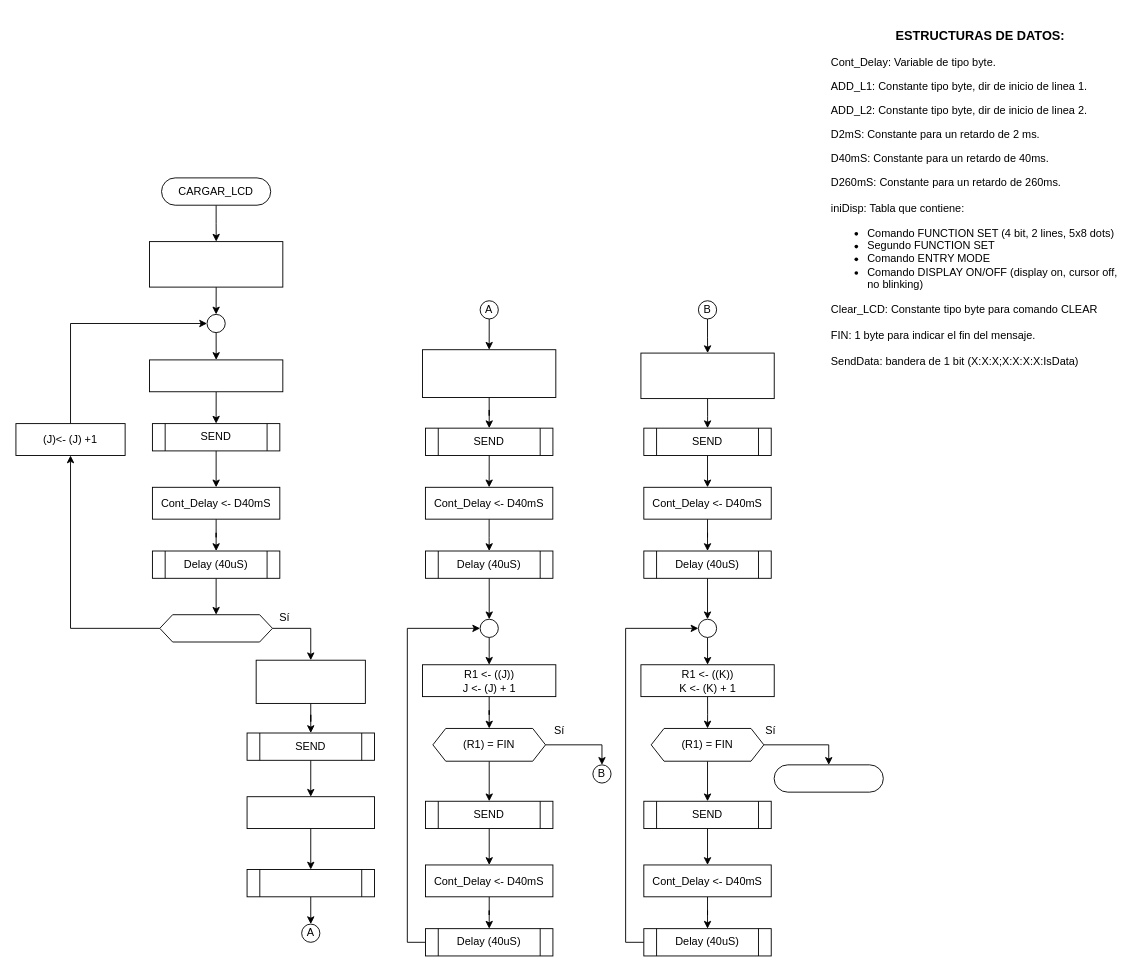
Some shapes in this 1146 by 973 pixel diagram are drawn without their labels. The centre of each missing label's shape, as x and y in pixels:
"(J)↑ J <- iniDisp" goes at point 216,264.
"(R1) = $0C" goes at point 215,628.
"Cont_Delay <- D2mS" goes at point 310,812.
"Delay (2uS)" goes at point 310,883.
"R1 <- ((J)) SendData <- 0" goes at point 216,375.
"R1 <- (ADD_L2) SendData <- 1" goes at point 707,375.
"R1<- (CLEAR_LCD)" goes at point 310,681.
"REGRESA" goes at point 828,778.
"↓J R1 <- (ADD_L1) SendData <- 1" goes at point 489,373.
